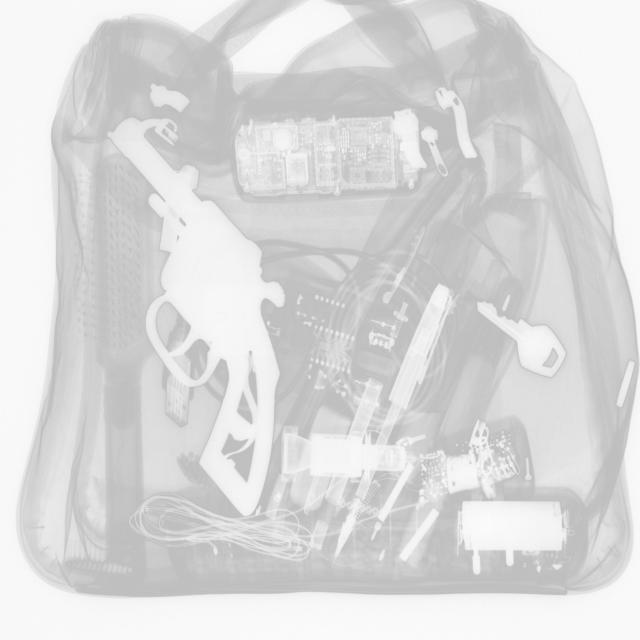pistol: (110, 118, 284, 510)
